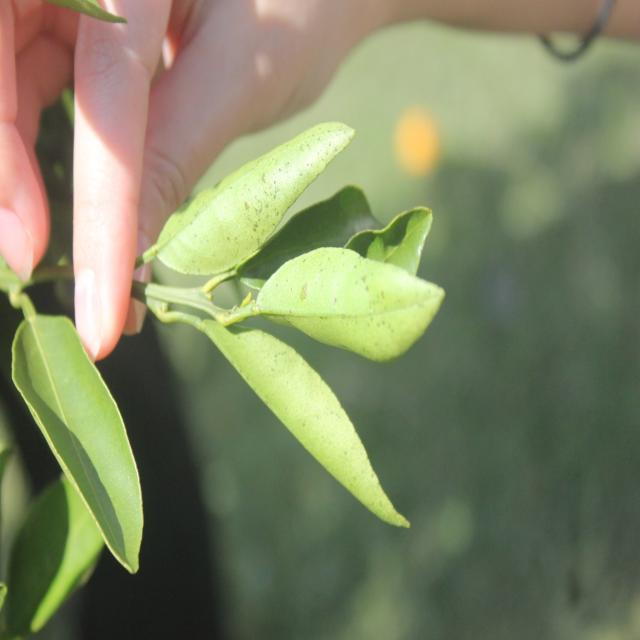melanose: (184, 102, 356, 278), (256, 231, 458, 342), (197, 316, 202, 320)
